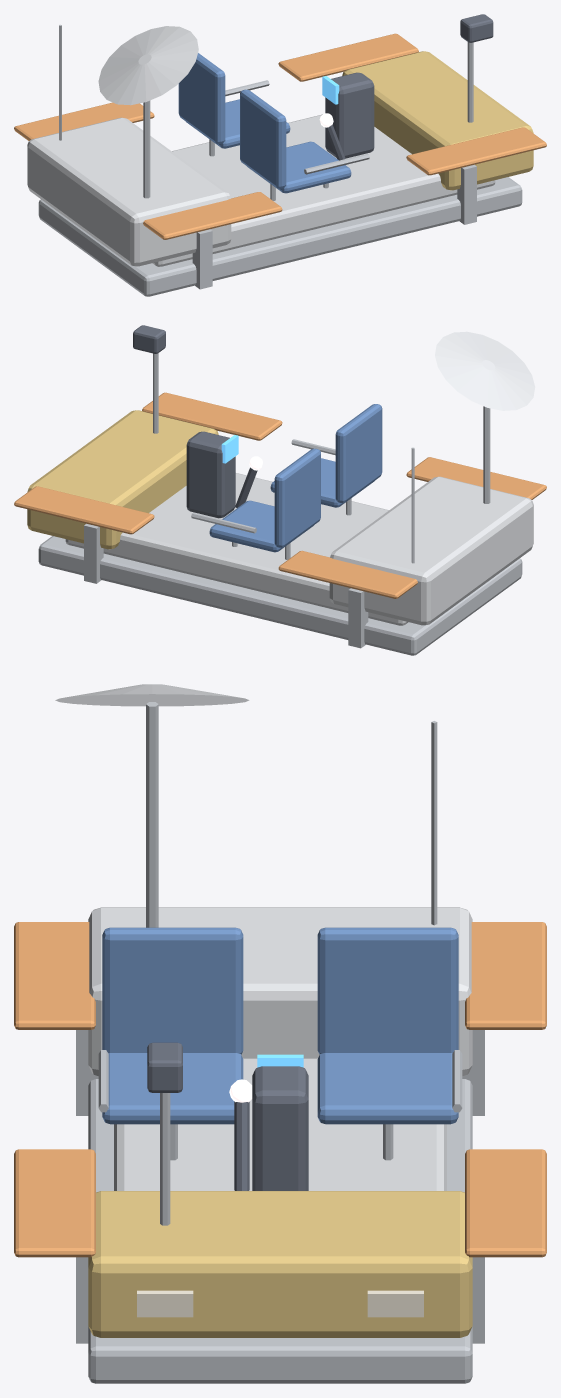
File: rover__body.fbx
The picture shows the model from 3 angles, top to bottom: view 1: azimuth 30°, elevation 25°; view 2: azimuth 150°, elevation 25°; view 3: azimuth 270°, elevation 25°; orthographic projection. The views are drawn at different scales.
Parts seen in each view (by area): view 1: rover__body; view 2: rover__body; view 3: rover__body.
Part boxes in pixels (bbox=[...]): rover__body: bbox=[14, 14, 546, 296]; rover__body: bbox=[14, 325, 546, 655]; rover__body: bbox=[14, 684, 546, 1383].
Size of the model in its own units: 3.3 by 1.82 by 2.08.
